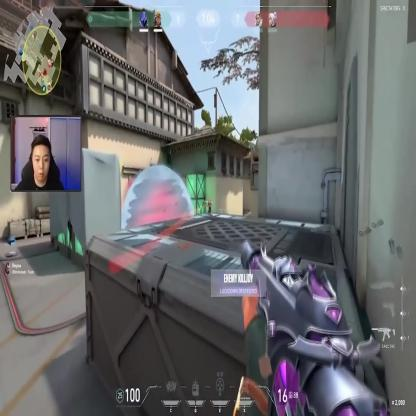enemy: (208, 197, 212, 219)
enemy_head: (210, 196, 212, 201)
